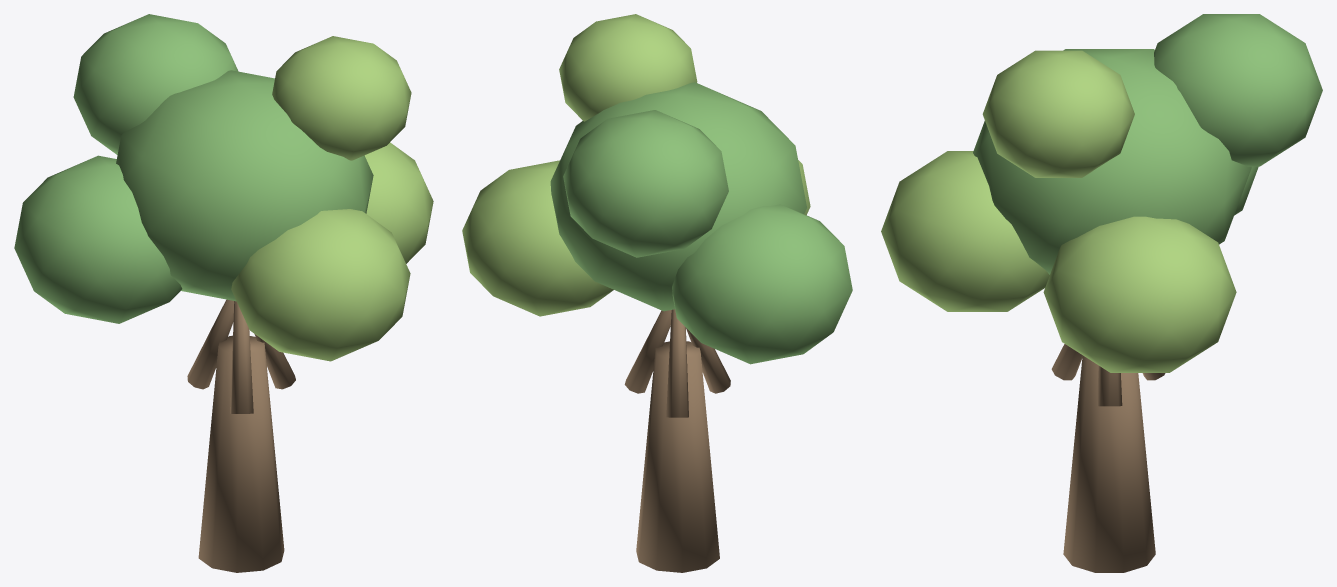
Rendered from world_tree_oak.glb.
The picture shows the model from 3 angles, left to right: view 1: azimuth 30°, elevation 25°; view 2: azimuth 150°, elevation 25°; view 3: azimuth 270°, elevation 25°; orthographic projection. The views are drawn at different scales.
Parts seen in each view (by area): view 1: world_tree_oak; view 2: world_tree_oak; view 3: world_tree_oak.
Boxes of the visible parts, left/top/right/bottom form: world_tree_oak: left=14, top=14, right=433, bottom=572; world_tree_oak: left=462, top=14, right=852, bottom=572; world_tree_oak: left=881, top=14, right=1322, bottom=572.
Size of the model in its own units: 4.55 by 5.84 by 4.35.
